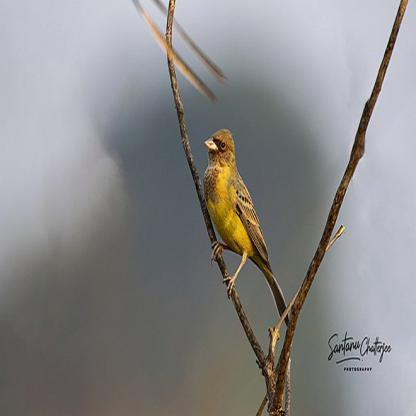Burung: (201, 127, 291, 330)
